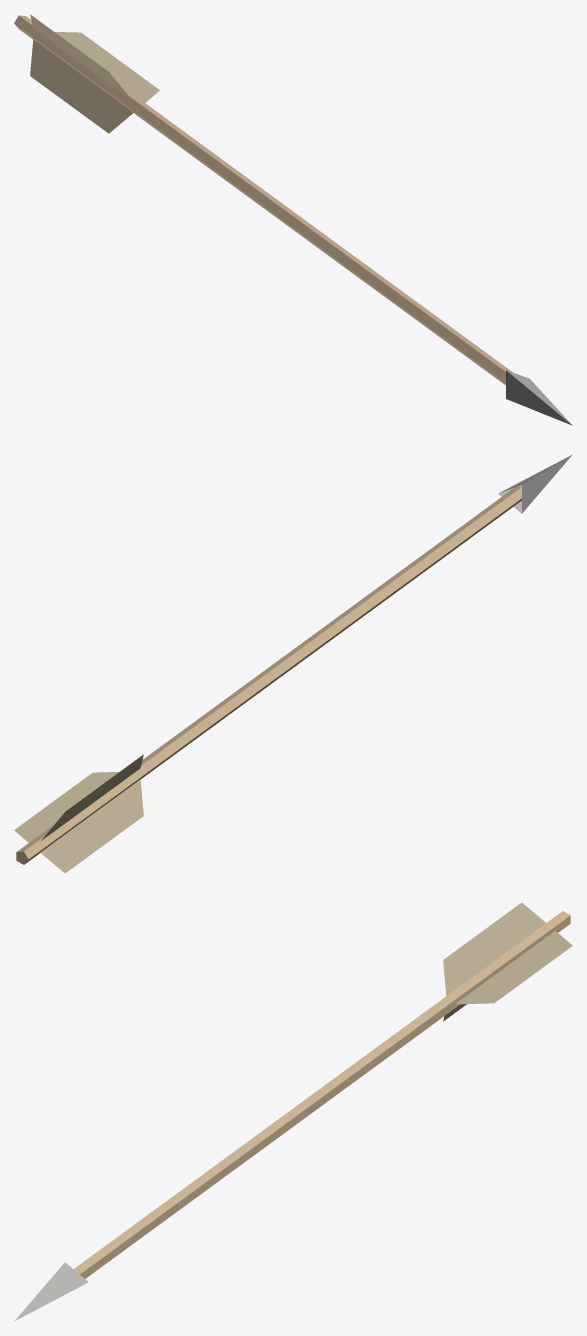
The model's file is arrow.glb.
The picture shows the model from 3 angles, top to bottom: view 1: azimuth 30°, elevation 25°; view 2: azimuth 150°, elevation 25°; view 3: azimuth 330°, elevation 25°; orthographic projection.
Parts seen in each view (by area): view 1: Arrow; view 2: Arrow; view 3: Arrow.
Part boxes in pixels (bbox=[...]): Arrow: bbox=[14, 14, 572, 425]; Arrow: bbox=[14, 454, 572, 873]; Arrow: bbox=[14, 902, 572, 1321].
Size of the model in its own units: 0.045 by 0.052 by 0.84.
